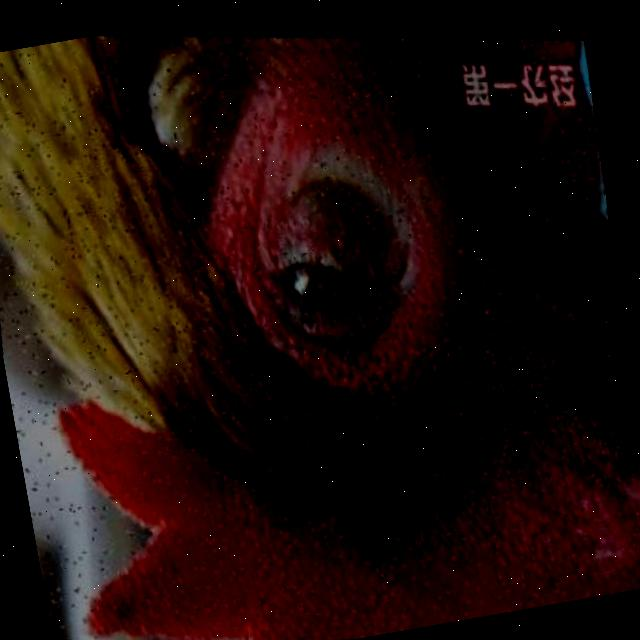Coryza: (238, 201, 410, 374)
